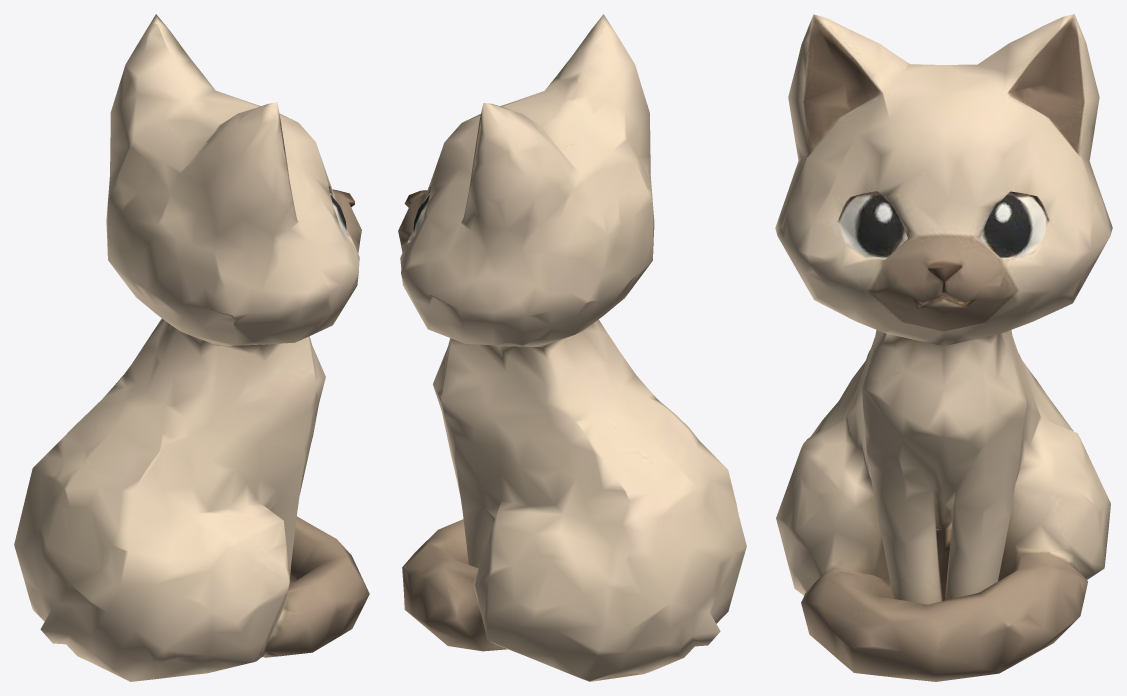
File: cat-sit.glb
3 renders of one model, left to right at view 1: azimuth 30°, elevation 25°; view 2: azimuth 150°, elevation 25°; view 3: azimuth 270°, elevation 25°, orthographic. The views are drawn at different scales.
Visible parts, largest first — view 1: tripo_node_726f5023-d79e-467e-9853-2fe8e88dc3d6; view 2: tripo_node_726f5023-d79e-467e-9853-2fe8e88dc3d6; view 3: tripo_node_726f5023-d79e-467e-9853-2fe8e88dc3d6.
Part boxes in pixels (box(x1,y1,x2,y2)): tripo_node_726f5023-d79e-467e-9853-2fe8e88dc3d6: box(14, 14, 369, 681); tripo_node_726f5023-d79e-467e-9853-2fe8e88dc3d6: box(398, 14, 746, 681); tripo_node_726f5023-d79e-467e-9853-2fe8e88dc3d6: box(775, 14, 1112, 681).
Size of the model in its own units: 0.5737 by 1 by 0.5.
Materials: 1 (1 with a texture image).
